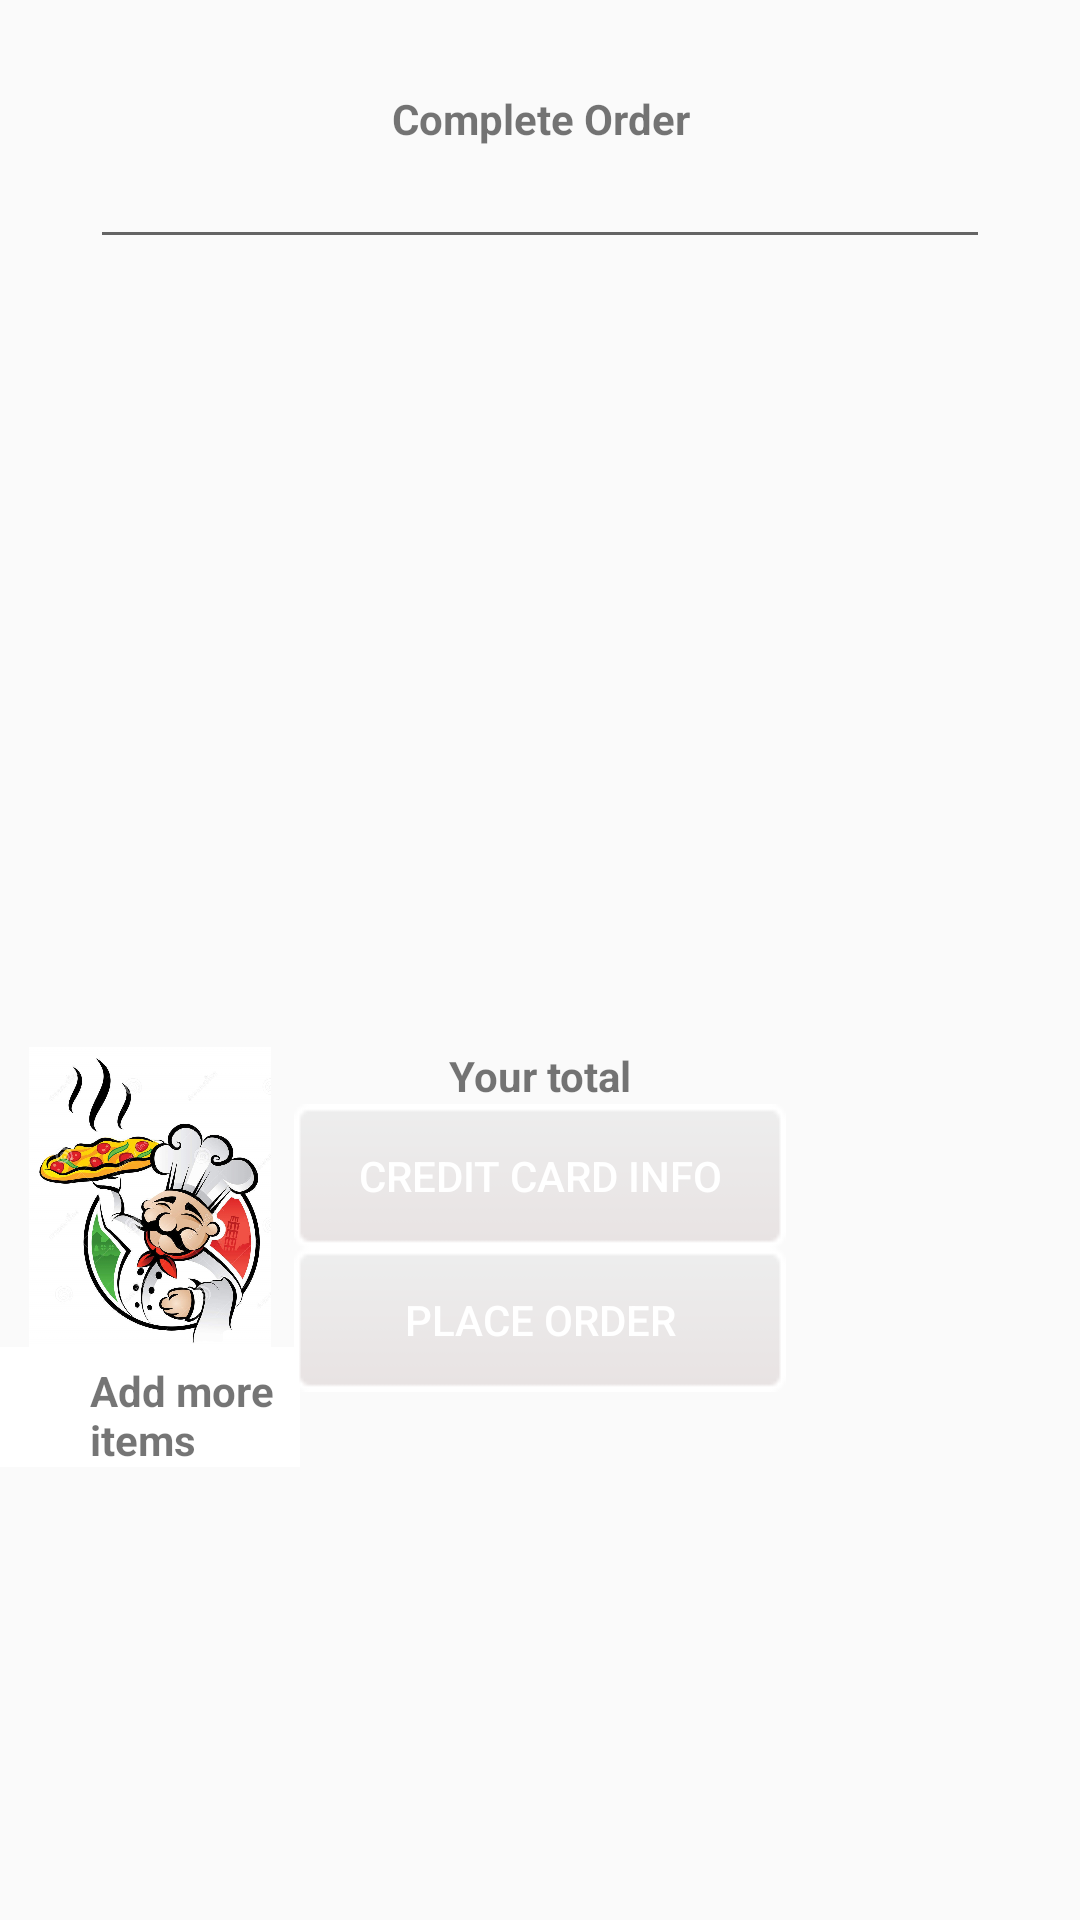

Screen size 1080 × 1920. Icon name, then its box in pixels as box=[x1, y1, x2, y2]:
pizza: box=[39, 1058, 260, 1343]
